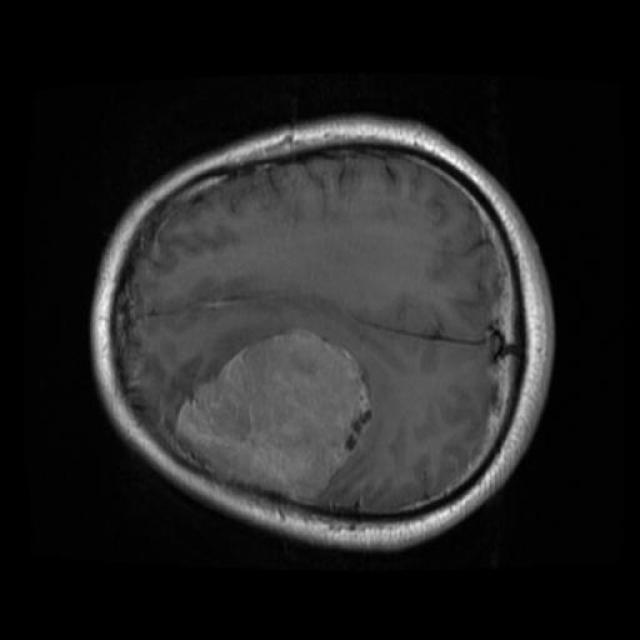Meningioma: (176, 330, 370, 504)
